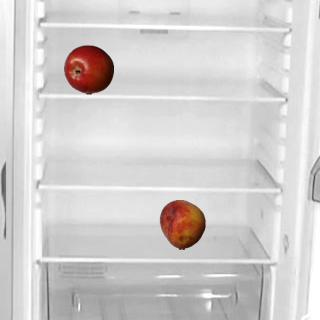Apple Braeburn: (63, 44, 113, 94)
Peach: (157, 199, 207, 249)
